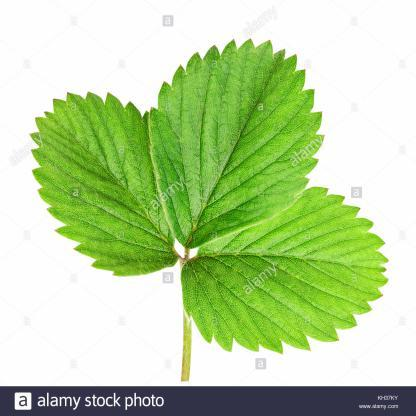Strawberry leaf: (146, 16, 324, 255), (182, 178, 394, 366), (23, 84, 180, 274)
